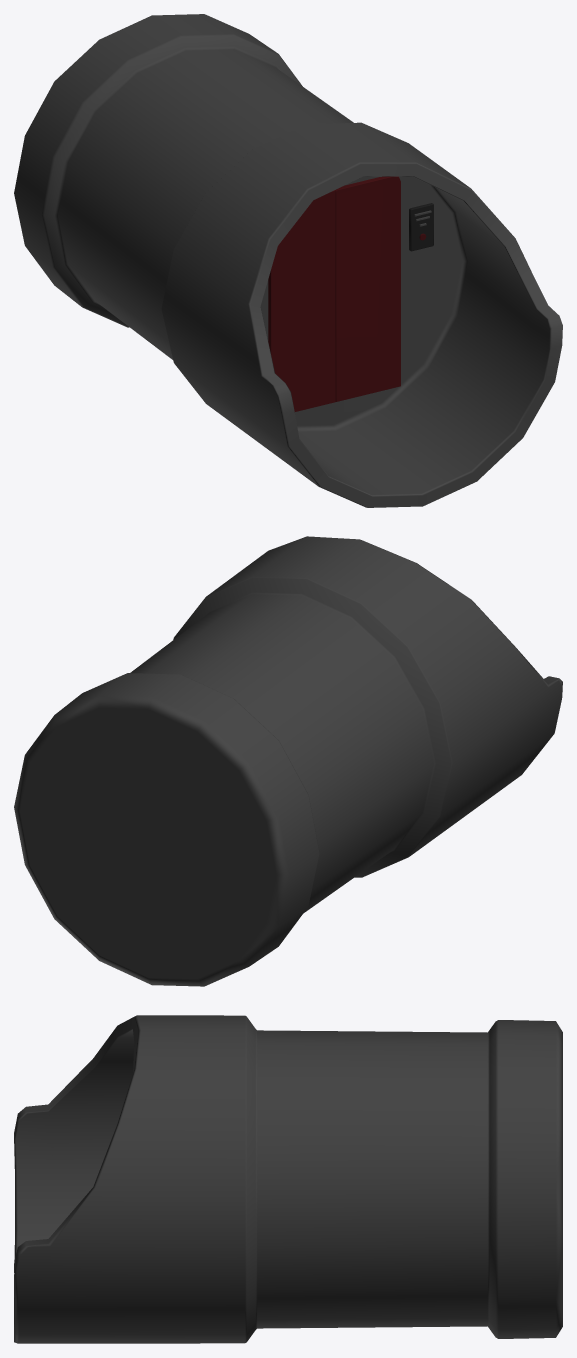
The model's file is colony_Section_door_key.glb.
The picture shows the model from 3 angles, top to bottom: view 1: azimuth 30°, elevation 25°; view 2: azimuth 150°, elevation 25°; view 3: azimuth 270°, elevation 25°; orthographic projection.
Parts seen in each view (by area): view 1: Section_door_key; view 2: Section_door_key; view 3: Section_door_key.
Boxes of the visible parts, bbox=[...] form: Section_door_key: bbox=[14, 14, 562, 507]; Section_door_key: bbox=[14, 536, 562, 986]; Section_door_key: bbox=[14, 1015, 562, 1343].
Bounding box in the file's own units: 289 × 284 × 472.
1 material, 1 textured.
